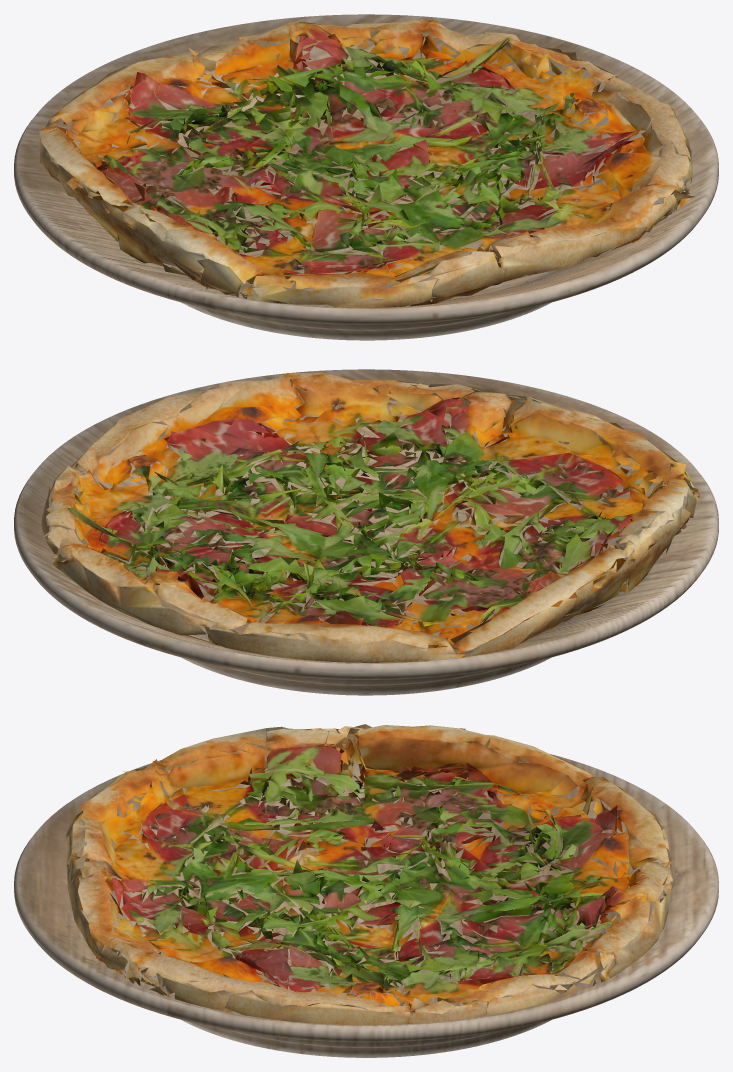
The model's file is pizza.glb.
3 views of the same model, one above another, from view 1: azimuth 30°, elevation 25°; view 2: azimuth 150°, elevation 25°; view 3: azimuth 270°, elevation 25° (orthographic).
Parts seen in each view (by area): view 1: pizza_pizza_0, Tarelka001__0; view 2: pizza_pizza_0, Tarelka001__0; view 3: pizza_pizza_0, Tarelka001__0.
Boxes of the visible parts, left/top/right/bottom form: pizza_pizza_0: left=38, top=19, right=694, bottom=307; Tarelka001__0: left=14, top=14, right=718, bottom=340; pizza_pizza_0: left=41, top=372, right=700, bottom=662; Tarelka001__0: left=14, top=369, right=718, bottom=695; pizza_pizza_0: left=66, top=724, right=673, bottom=1025; Tarelka001__0: left=14, top=754, right=718, bottom=1057.
Bounding box in the file's own units: 0.6031 × 0.1036 × 0.6031.
2 materials, 2 textured.
